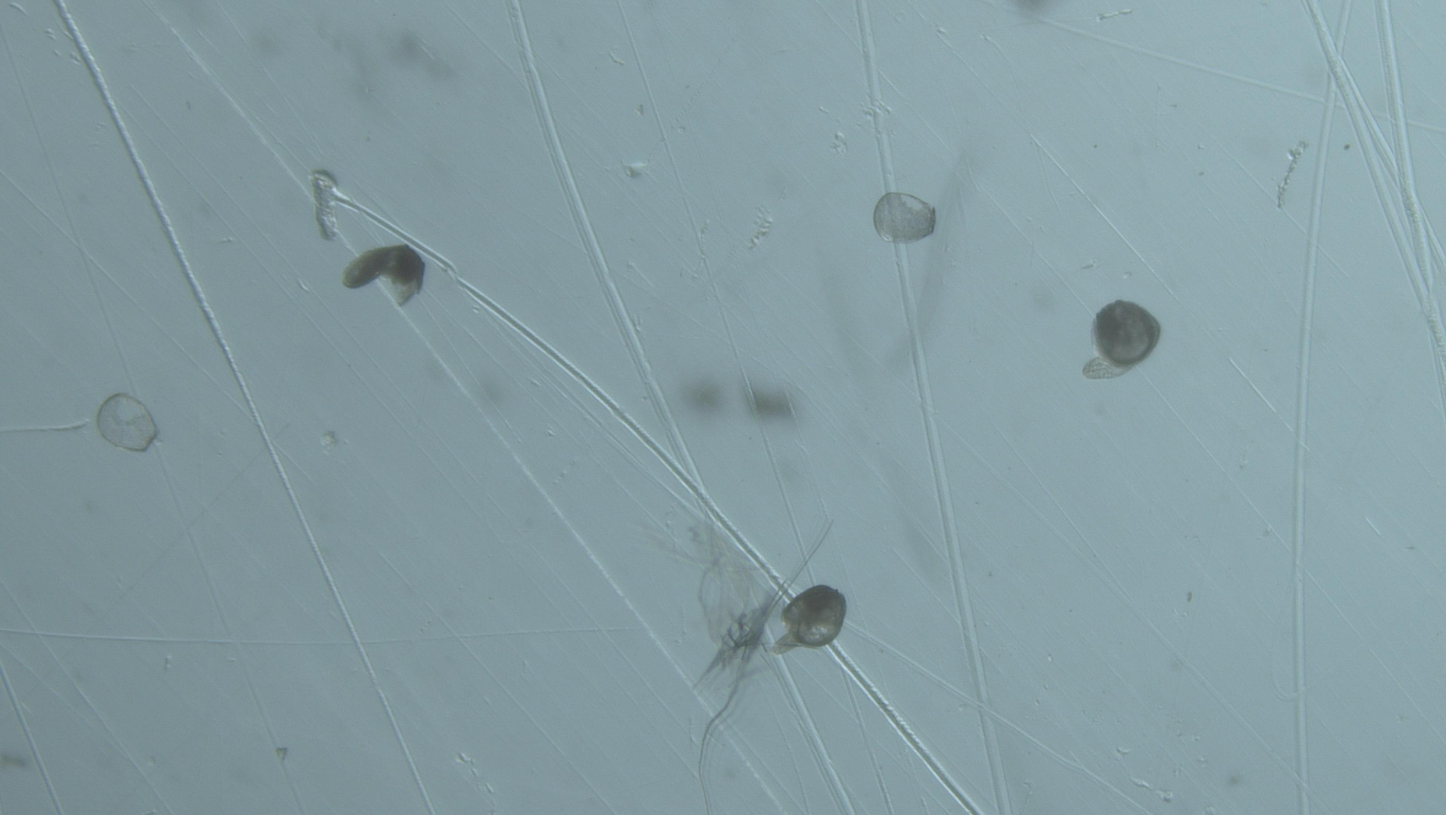dead: (97, 393, 159, 452), (874, 193, 936, 244)
live: (1082, 301, 1161, 380), (773, 586, 847, 654)
